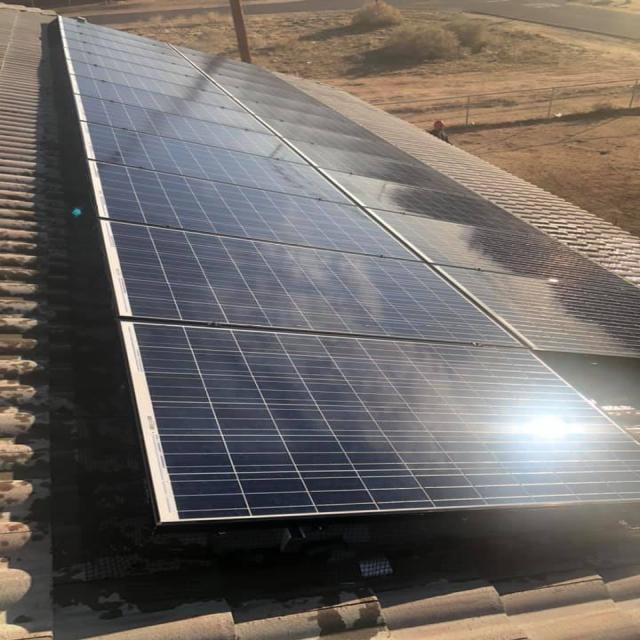clean-solar-panel: (60, 19, 638, 521)
